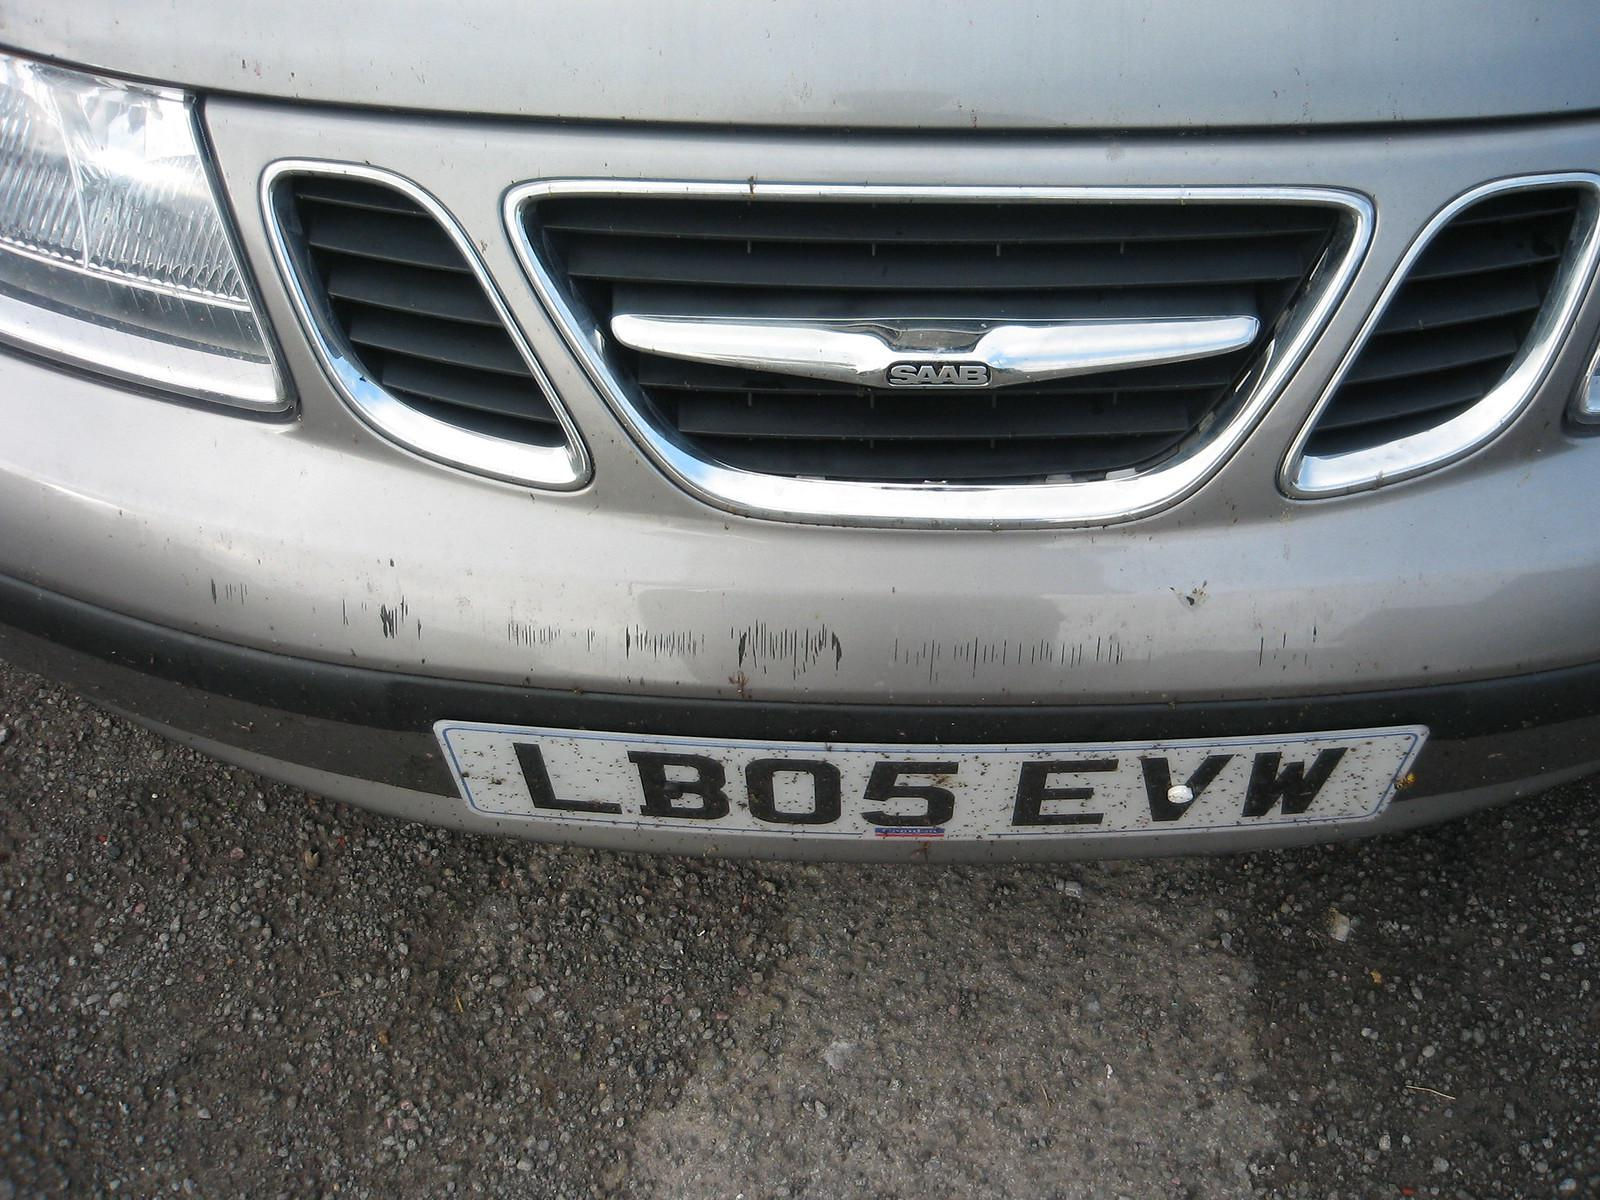front-bumper-dent: (215, 487, 1494, 847)
